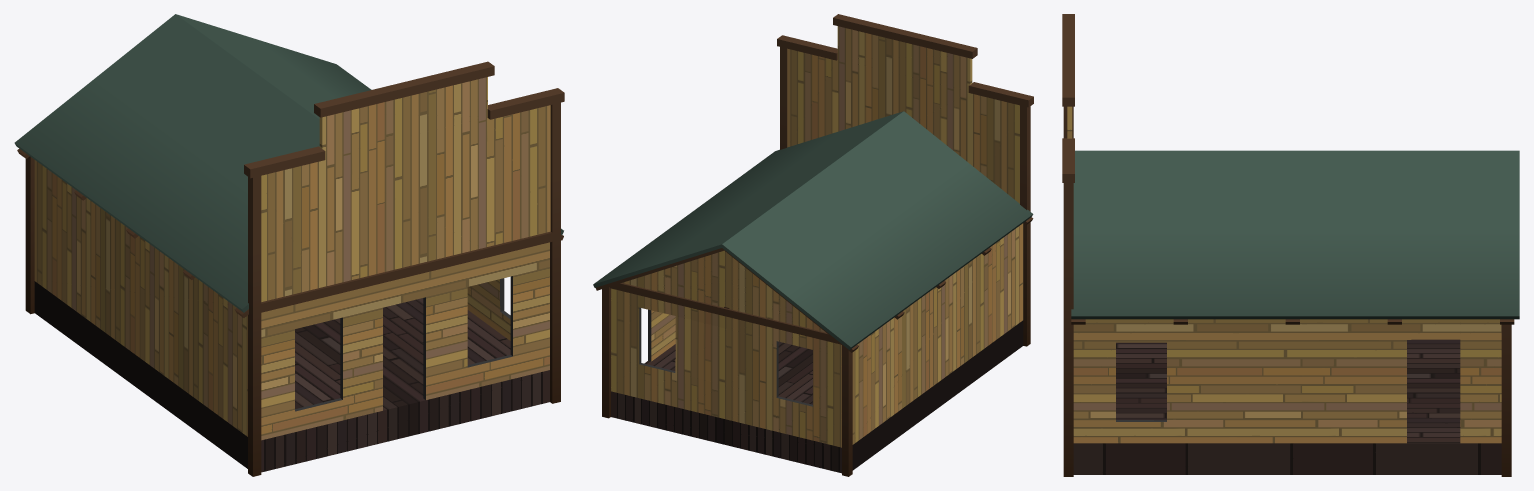
File: House 7 M Train Station.glb
The picture shows the model from 3 angles, left to right: view 1: azimuth 30°, elevation 25°; view 2: azimuth 150°, elevation 25°; view 3: azimuth 270°, elevation 25°; orthographic projection. The views are drawn at different scales.
Parts seen in each view (by area): view 1: House 7 M Train Station; view 2: House 7 M Train Station; view 3: House 7 M Train Station.
Part boxes in pixels (x1,y1,x2,y2): House 7 M Train Station: (14,14,564,476); House 7 M Train Station: (593,14,1033,476); House 7 M Train Station: (1062,14,1519,476).
Size of what is drawn, in the model's own units: 7.53 by 7.87 by 9.4.
Materials: 3 (3 with a texture image).
